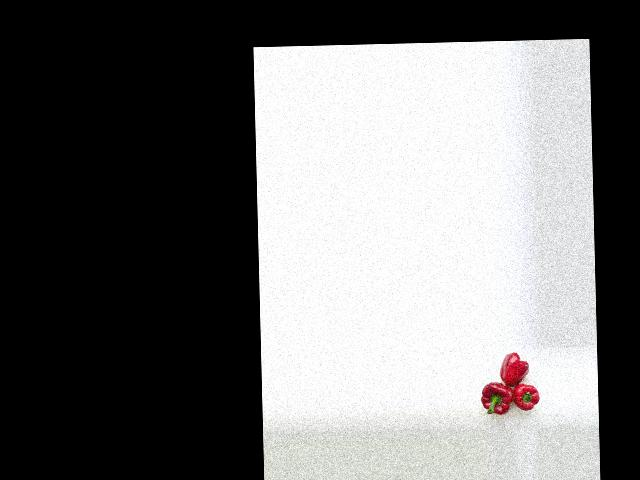bell_pepper: (496, 347, 535, 387)
